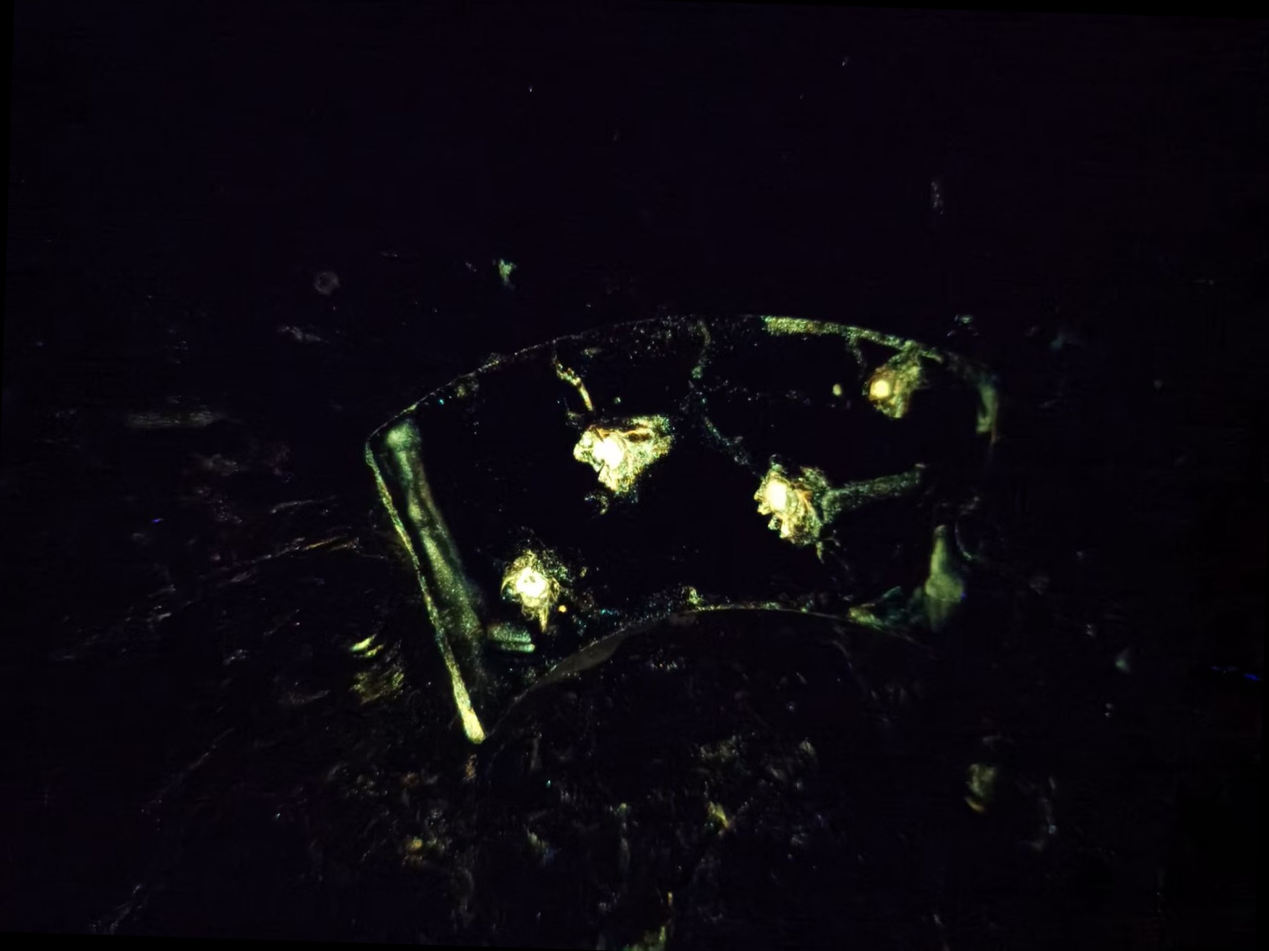Crater: (719, 455, 875, 577), (551, 392, 696, 501), (479, 533, 592, 653), (847, 345, 941, 433)
